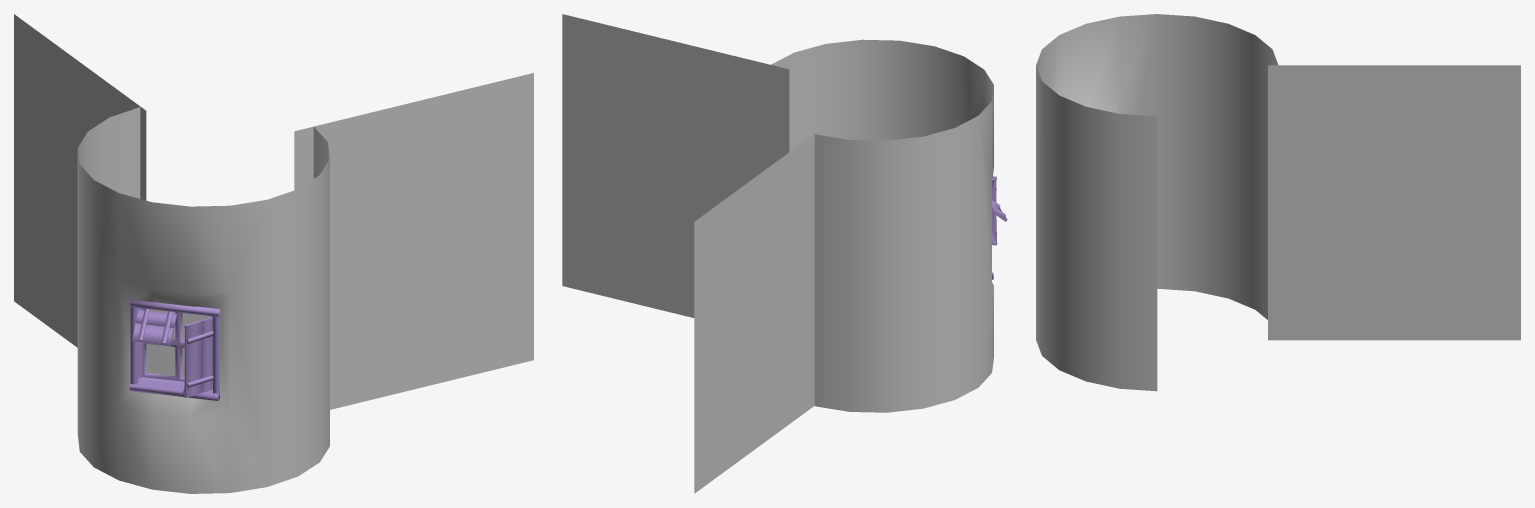
The model's file is tower_c_segment_c_outside.fbx.
The picture shows the model from 3 angles, left to right: view 1: azimuth 30°, elevation 25°; view 2: azimuth 150°, elevation 25°; view 3: azimuth 270°, elevation 25°; orthographic projection. The views are drawn at different scales.
Visible parts, largest first — view 1: Cylinder.042, Plane.094, Plane.097, Plane.095, Plane.096; view 2: Cylinder.042; view 3: Cylinder.042.
Boxes of the visible parts, box(x1,y1,x2,y2) form: Cylinder.042: box(14, 14, 533, 493); Plane.094: box(129, 299, 219, 400); Plane.097: box(183, 317, 213, 397); Plane.095: box(146, 309, 210, 377); Plane.096: box(132, 308, 177, 346); Cylinder.042: box(562, 14, 993, 493); Cylinder.042: box(1036, 14, 1520, 391).
Bounding box in the file's own units: 8.01 × 5 × 8.
